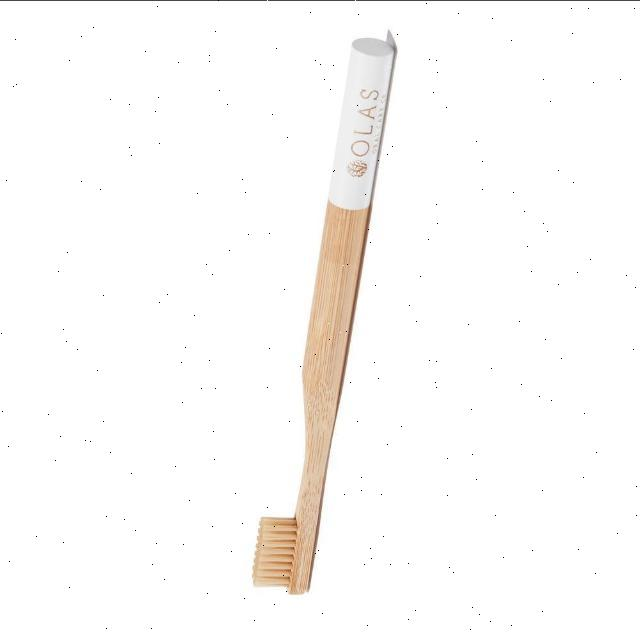toothbrush: (239, 28, 395, 590)
